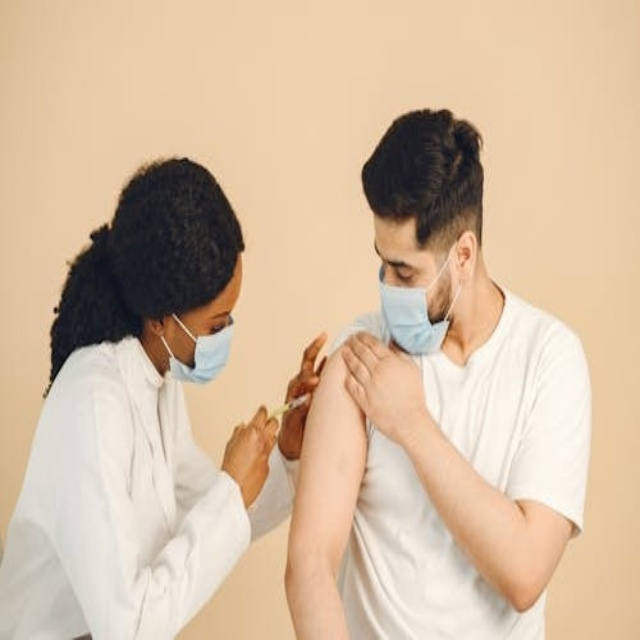Mascara: (379, 248, 459, 355), (161, 308, 233, 383)
Sin_gafas: (394, 263, 416, 282), (210, 317, 231, 334)
Sin_guantes: (338, 331, 425, 444), (277, 333, 330, 461), (220, 406, 279, 509)
